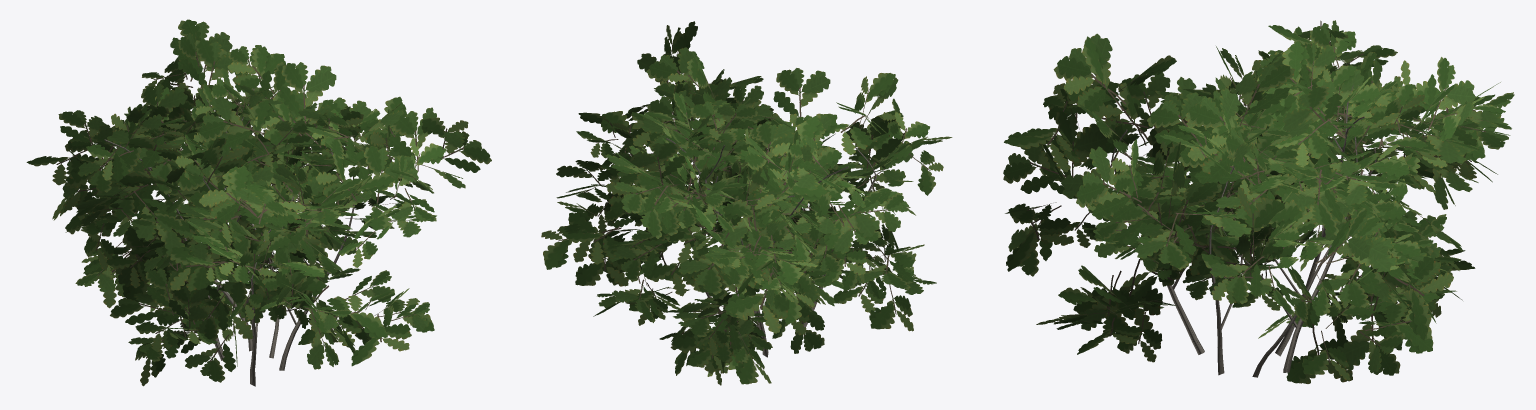
File: bush_03.glb
3 renders of one model, left to right at view 1: azimuth 30°, elevation 25°; view 2: azimuth 150°, elevation 25°; view 3: azimuth 270°, elevation 25°, orthographic. The views are drawn at different scales.
Visible parts, largest first — view 1: gambel_oak_LOD0; view 2: gambel_oak_LOD0; view 3: gambel_oak_LOD0.
Boxes of the visible parts, x1,y1,x2,y2 form: gambel_oak_LOD0: (26, 19, 491, 386); gambel_oak_LOD0: (541, 21, 952, 385); gambel_oak_LOD0: (1003, 20, 1514, 383).
Bounding box in the file's own units: 1.29 × 1.1 × 1.45.
2 materials, 2 textured.
